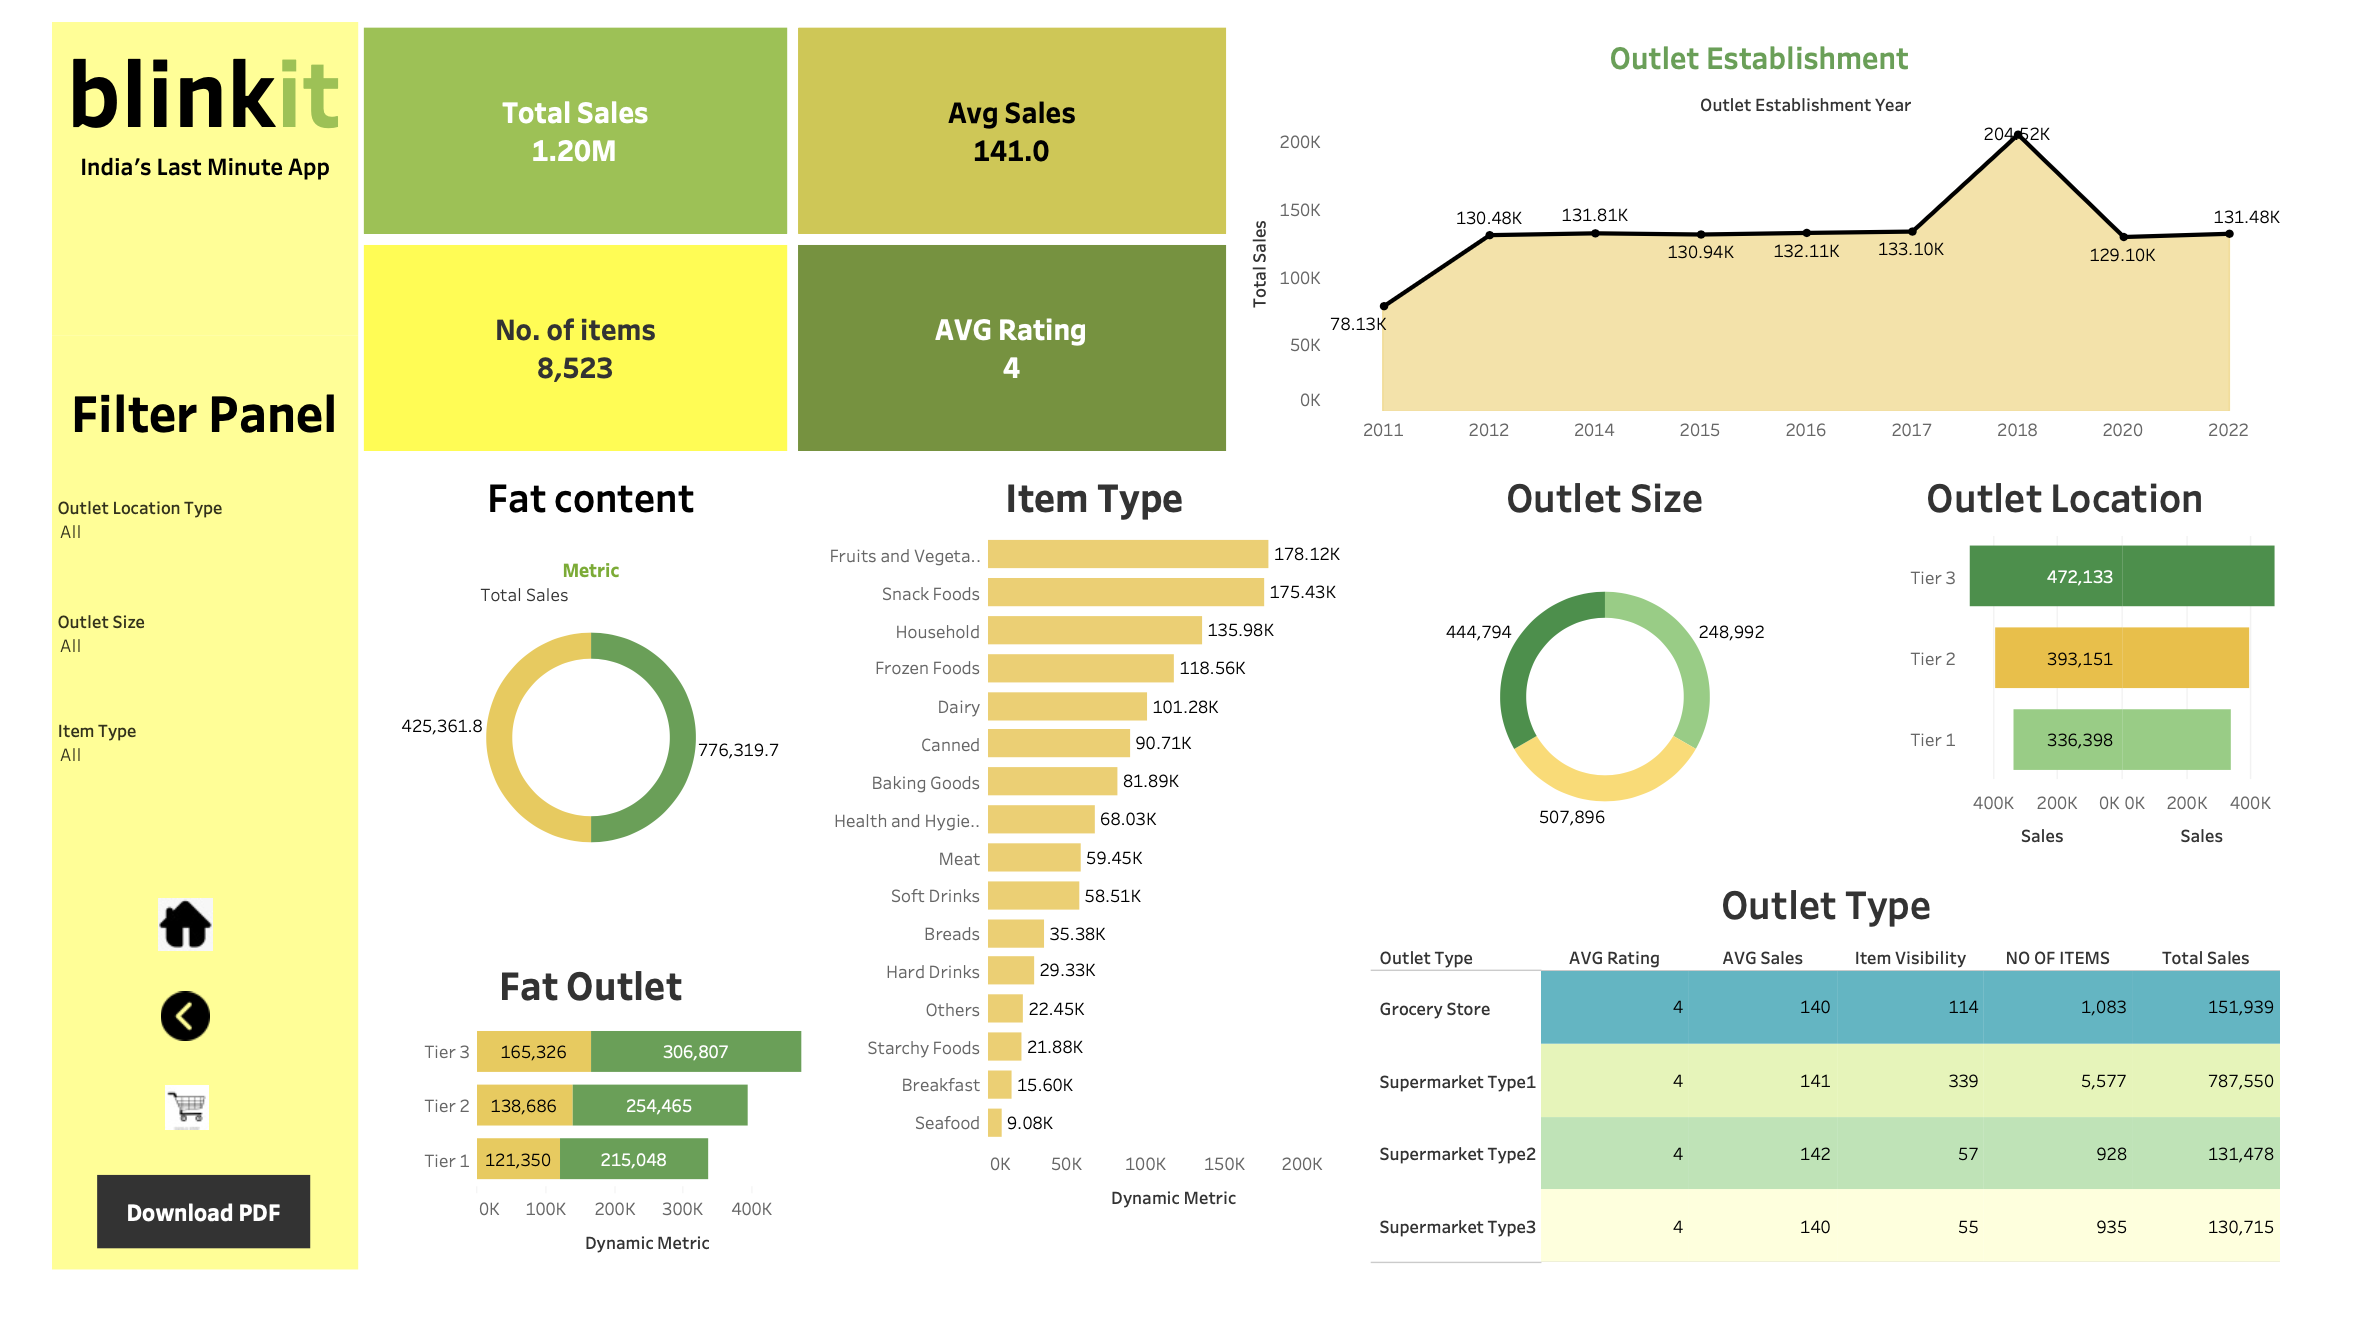

The page's visual inventory and layout, read from the dashboard file:
{"tool":"tableau","page":{"name":"Dashboard 1","canvas":[1600,900],"ordinal":0},"visuals":[{"type":"text","box":[8,8,217,117]},{"type":"worksheet","title":"TOTAL SALES","mark":"Automatic","box":[225,8,308,154]},{"type":"worksheet","title":"AVG SALES","mark":"Automatic","box":[533,8,311,154]},{"type":"worksheet","title":"Outlet Establishment","mark":"Area","rows":["Calculation_0042037061066754","Calculation_0042037061066754"],"cols":["Outlet Establishment Year"],"box":[844,8,748,308]},{"type":"worksheet","title":"No of items","mark":"Automatic","box":[225,162,308,154]},{"type":"worksheet","title":"AVG RATING","mark":"Automatic","box":[533,162,311,154]},{"type":"text","box":[8,230,217,108]},{"type":"worksheet","title":"Fat content","mark":"Pie","rows":["Calculation_0500808663076868","Calculation_0500808663076868"],"box":[225,316,330,346]},{"type":"worksheet","title":"Item Type","mark":"Automatic","rows":["Item Type"],"cols":["Calculation_0500808659939330"],"box":[555,316,384,576]},{"type":"worksheet","title":"Outlet Size","mark":"Pie","rows":["Calculation_0500808663076868","Calculation_0500808663076868"],"box":[939,316,339.4,288]},{"type":"worksheet","title":"Outlet Location","mark":"Automatic","rows":["Outlet Location Type"],"cols":["Sales","Sales"],"box":[1278.4,316,313.6,288]},{"type":"filter","title":"Outlet Size","param":"[federated.0pw68o81uefqu913ghqas0g8mxe6].[none:Outlet Location Type:nk]","box":[8,338,217,81]},{"type":"parameter","param":"[Parameters].[Parameter 1]","box":[310,386,160,44]},{"type":"filter","title":"Outlet Size","param":"[federated.0pw68o81uefqu913ghqas0g8mxe6].[none:Outlet Size:nk]","box":[8,419,217,77]},{"type":"filter","title":"Outlet Size","param":"[federated.0pw68o81uefqu913ghqas0g8mxe6].[none:Item Type:nk]","box":[8,496,217,68]},{"type":"blank","box":[8,564,217,254]},{"type":"worksheet","title":"Outlet Type","mark":"Square","rows":["Outlet Type"],"box":[939,604,653,288]},{"type":"image","param":"Image/images.png","box":[83,629,39,43]},{"type":"worksheet","title":"Fat Outlet","mark":"Automatic","rows":["Outlet Location Type"],"cols":["Calculation_0500808659939330"],"box":[225,662,330,230]},{"type":"image","param":"Image/251451-200.png","box":[85,695,38,35]},{"type":"image","param":"Image/supermarket-shopping-cart-icon-cut-260nw-2216548439.png","box":[88,761,31,33]}]}

Visuals, with their boxes in screenshot pixels (x1, y1, x2, y2), scaled from the page's 1600x900 canvas onto the 2354x1318 screenshot:
text: {"left": 12, "top": 12, "right": 331, "bottom": 183}
"TOTAL SALES" worksheet: {"left": 331, "top": 12, "right": 784, "bottom": 237}
"AVG SALES" worksheet: {"left": 784, "top": 12, "right": 1242, "bottom": 237}
"Outlet Establishment" worksheet (Area marks): {"left": 1242, "top": 12, "right": 2342, "bottom": 463}
"No of items" worksheet: {"left": 331, "top": 237, "right": 784, "bottom": 463}
"AVG RATING" worksheet: {"left": 784, "top": 237, "right": 1242, "bottom": 463}
text: {"left": 12, "top": 337, "right": 331, "bottom": 495}
"Fat content" worksheet (Pie marks): {"left": 331, "top": 463, "right": 817, "bottom": 969}
"Item Type" worksheet: {"left": 817, "top": 463, "right": 1382, "bottom": 1306}
"Outlet Size" worksheet (Pie marks): {"left": 1382, "top": 463, "right": 1881, "bottom": 885}
"Outlet Location" worksheet: {"left": 1881, "top": 463, "right": 2342, "bottom": 885}
"Outlet Size" filter: {"left": 12, "top": 495, "right": 331, "bottom": 614}
parameter: {"left": 456, "top": 565, "right": 691, "bottom": 630}
"Outlet Size" filter: {"left": 12, "top": 614, "right": 331, "bottom": 726}
"Outlet Size" filter: {"left": 12, "top": 726, "right": 331, "bottom": 826}
blank: {"left": 12, "top": 826, "right": 331, "bottom": 1198}
"Outlet Type" worksheet (Square marks): {"left": 1382, "top": 885, "right": 2342, "bottom": 1306}
image: {"left": 122, "top": 921, "right": 179, "bottom": 984}
"Fat Outlet" worksheet: {"left": 331, "top": 969, "right": 817, "bottom": 1306}
image: {"left": 125, "top": 1018, "right": 181, "bottom": 1069}
image: {"left": 129, "top": 1114, "right": 175, "bottom": 1163}
